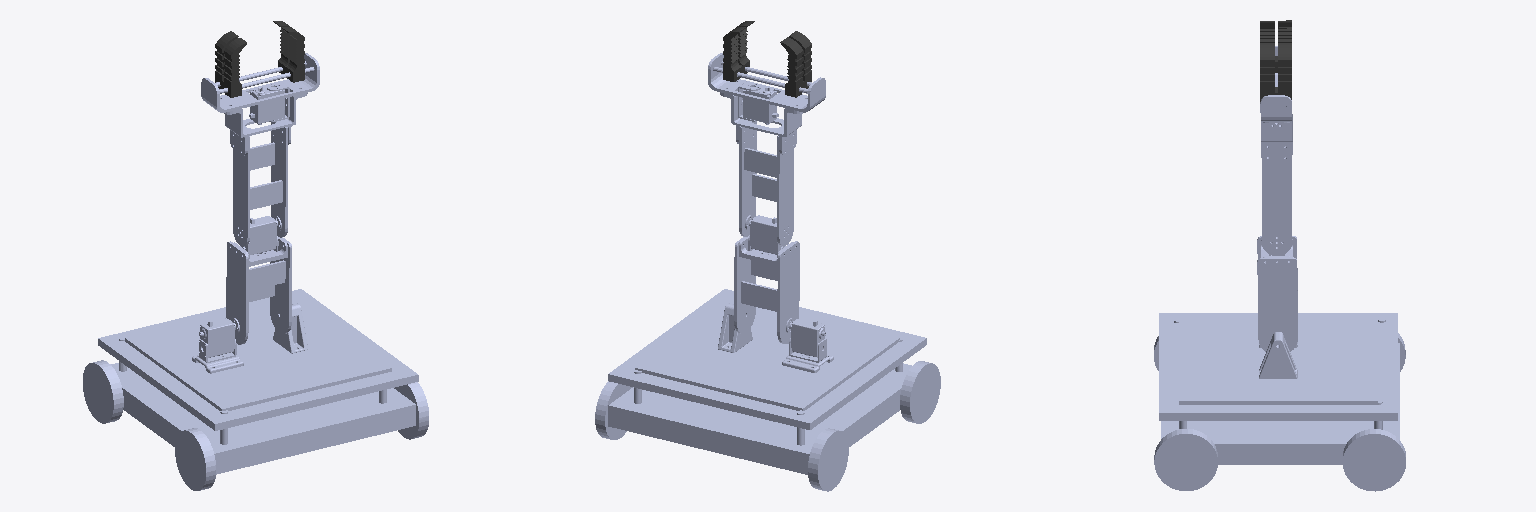
robot.urdf — urdf7:
<?xml version="1.0" encoding="utf-8"?>
<!-- This URDF was automatically created by SolidWorks to URDF Exporter! Originally created by [author] ([email redacted]) 
     Commit Version: 1.6.0-4-g7f85cfe  Build Version: 1.6.7995.38578
     For more information, please see http://wiki.ros.org/sw_urdf_exporter -->
<robot
  name="urdf7">
  <link
    name="base_link">
    <inertial>
      <origin
        xyz="0.0668152216688416 -0.200623079180796 0.0642523578899035"
        rpy="0 0 0" />
      <mass
        value="3.61780596947193" />
      <inertia
        ixx="0.0234239245030477"
        ixy="1.64464864106653E-11"
        ixz="2.5749870118457E-08"
        iyy="0.0259458335995285"
        iyz="-1.09112120541581E-06"
        izz="0.0489634906731094" />
    </inertial>
    <visual>
      <origin
        xyz="0 0 0"
        rpy="0 0 0" />
      <geometry>
        <mesh
          filename="package://urdf7/meshes/base_link.STL" />
      </geometry>
      <material
        name="">
        <color
          rgba="0.792156862745098 0.819607843137255 0.933333333333333 1" />
      </material>
    </visual>
    <collision>
      <origin
        xyz="0 0 0"
        rpy="0 0 0" />
      <geometry>
        <mesh
          filename="package://urdf7/meshes/base_link.STL" />
      </geometry>
    </collision>
  </link>
  <link
    name="wlf">
    <inertial>
      <origin
        xyz="3.84374028176149E-05 -0.000183531350603929 0.0139345794392523"
        rpy="0 0 0" />
      <mass
        value="0.100845124180233" />
      <inertia
        ixx="4.8134198720732E-05"
        ixy="2.10787776934373E-09"
        ixz="-7.39018533366798E-08"
        iyy="4.81245754596535E-05"
        iyz="3.52867414569589E-07"
        izz="6.31918614311935E-05" />
    </inertial>
    <visual>
      <origin
        xyz="0 0 0"
        rpy="0 0 0" />
      <geometry>
        <mesh
          filename="package://urdf7/meshes/wlf.STL" />
      </geometry>
      <material
        name="">
        <color
          rgba="0.792156862745098 0.819607843137255 0.933333333333333 1" />
      </material>
    </visual>
    <collision>
      <origin
        xyz="0 0 0"
        rpy="0 0 0" />
      <geometry>
        <mesh
          filename="package://urdf7/meshes/wlf.STL" />
      </geometry>
    </collision>
  </link>
  <joint
    name="wlf_joint"
    type="continuous">
    <origin
      xyz="-0.098528 -0.082236 0.039792"
      rpy="1.5708 0 1.5708" />
    <parent
      link="base_link" />
    <child
      link="wlf" />
    <axis
      xyz="0 0 1" />
  </joint>
  <link
    name="wlb">
    <inertial>
      <origin
        xyz="-3.84374028175594E-05 0.000183531350603922 0.0139345794392523"
        rpy="0 0 0" />
      <mass
        value="0.100845124180233" />
      <inertia
        ixx="4.8134198720732E-05"
        ixy="2.10787776933083E-09"
        ixz="7.39018533366996E-08"
        iyy="4.81245754596535E-05"
        iyz="-3.5286741456959E-07"
        izz="6.31918614311935E-05" />
    </inertial>
    <visual>
      <origin
        xyz="0 0 0"
        rpy="0 0 0" />
      <geometry>
        <mesh
          filename="package://urdf7/meshes/wlb.STL" />
      </geometry>
      <material
        name="">
        <color
          rgba="0.792156862745098 0.819607843137255 0.933333333333333 1" />
      </material>
    </visual>
    <collision>
      <origin
        xyz="0 0 0"
        rpy="0 0 0" />
      <geometry>
        <mesh
          filename="package://urdf7/meshes/wlb.STL" />
      </geometry>
    </collision>
  </link>
  <joint
    name="wlb_joint"
    type="continuous">
    <origin
      xyz="-0.098528 -0.31879 0.039966"
      rpy="-1.5708 0 -1.5708" />
    <parent
      link="base_link" />
    <child
      link="wlb" />
    <axis
      xyz="0 0 1" />
  </joint>
  <link
    name="wrf">
    <inertial>
      <origin
        xyz="-0.000184301483844296 3.45565282207153E-05 0.0139345794392523"
        rpy="0 0 0" />
      <mass
        value="0.100845124180232" />
      <inertia
        ixx="4.81244908153978E-05"
        ixy="1.90300558831799E-09"
        ixz="3.54348114866728E-07"
        iyy="4.81342833649877E-05"
        iyz="-6.64402715376398E-08"
        izz="6.31918614311933E-05" />
    </inertial>
    <visual>
      <origin
        xyz="0 0 0"
        rpy="0 0 0" />
      <geometry>
        <mesh
          filename="package://urdf7/meshes/wrf.STL" />
      </geometry>
      <material
        name="">
        <color
          rgba="0.792156862745098 0.819607843137255 0.933333333333333 1" />
      </material>
    </visual>
    <collision>
      <origin
        xyz="0 0 0"
        rpy="0 0 0" />
      <geometry>
        <mesh
          filename="package://urdf7/meshes/wrf.STL" />
      </geometry>
    </collision>
  </link>
  <joint
    name="wrf_joint"
    type="continuous">
    <origin
      xyz="0.23147 -0.081353 0.039202"
      rpy="-1.5708 0 1.5708" />
    <parent
      link="base_link" />
    <child
      link="wrf" />
    <axis
      xyz="0 0 1" />
  </joint>
  <link
    name="wrb">
    <inertial>
      <origin
        xyz="0.000184301483844296 -3.45565282207222E-05 0.0139345794392523"
        rpy="0 0 0" />
      <mass
        value="0.100845124180232" />
      <inertia
        ixx="4.8124490815398E-05"
        ixy="1.90300558831802E-09"
        ixz="-3.54348114866745E-07"
        iyy="4.81342833649879E-05"
        iyz="6.64402715376388E-08"
        izz="6.31918614311934E-05" />
    </inertial>
    <visual>
      <origin
        xyz="0 0 0"
        rpy="0 0 0" />
      <geometry>
        <mesh
          filename="package://urdf7/meshes/wrb.STL" />
      </geometry>
      <material
        name="">
        <color
          rgba="0.792156862745098 0.819607843137255 0.933333333333333 1" />
      </material>
    </visual>
    <collision>
      <origin
        xyz="0 0 0"
        rpy="0 0 0" />
      <geometry>
        <mesh
          filename="package://urdf7/meshes/wrb.STL" />
      </geometry>
    </collision>
  </link>
  <joint
    name="wrb_joint"
    type="continuous">
    <origin
      xyz="0.23147 -0.3179 0.039376"
      rpy="1.5708 0 -1.5708" />
    <parent
      link="base_link" />
    <child
      link="wrb" />
    <axis
      xyz="0 0 1" />
  </joint>
  <link
    name="link1">
    <inertial>
      <origin
        xyz="0.0744834102664675 -8.16528076263978E-08 0.034222433190242"
        rpy="0 0 0" />
      <mass
        value="0.116923919932247" />
      <inertia
        ixx="2.68471985890524E-05"
        ixy="-1.87187165060631E-07"
        ixz="-2.57502484520588E-08"
        iyy="9.09493476625712E-05"
        iyz="-1.5225499347338E-11"
        izz="9.13661053358226E-05" />
    </inertial>
    <visual>
      <origin
        xyz="0 0 0"
        rpy="0 0 0" />
      <geometry>
        <mesh
          filename="package://urdf7/meshes/link1.STL" />
      </geometry>
      <material
        name="">
        <color
          rgba="0.792156862745098 0.819607843137255 0.933333333333333 1" />
      </material>
    </visual>
    <collision>
      <origin
        xyz="0 0 0"
        rpy="0 0 0" />
      <geometry>
        <mesh
          filename="package://urdf7/meshes/link1.STL" />
      </geometry>
    </collision>
  </link>
  <joint
    name="link1_joint"
    type="revolute">
    <origin
      xyz="0.10365 -0.20235 0.1523"
      rpy="1.5708 0 -1.5708" />
    <parent
      link="base_link" />
    <child
      link="link1" />
    <axis
      xyz="0 0 1" />
    <limit
      lower="0.695"
      upper="2.424000"
      effort="1"
      velocity="1" />
  </joint>
<link name="link2">
  <inertial>
    <origin xyz="5.35195461837112E-08 0.135652709133402 0.024085541915995" rpy="0 0 0" />
    <mass value="0.170021565693756" />
    <inertia ixx="0.000294086775787843" ixy="-2.16015023974072E-07" ixz="-1.26336994195142E-11" iyy="0.00019237216893058" iyz="4.88090805218435E-07" izz="0.000133214990684317" />
  </inertial>
  <visual>
    <origin xyz="0 0 0" rpy="0 0 0" />
    <geometry>
      <mesh filename="package://urdf7/meshes/link2.STL" />
    </geometry>
    <material name="">
      <color rgba="0.792156862745098 0.819607843137255 0.933333333333333 1" />
    </material>
  </visual>
  <collision>
    <origin xyz="0 0 0" rpy="0 0 0" />
    <geometry>
      <mesh filename="package://urdf7/meshes/link2.STL" />
    </geometry>
  </collision>
</link>

<joint name="link2_joint" type="revolute">
  <origin xyz="0.1309 0 0.00685" rpy="0 0 0" />
  <parent link="link1" />
  <child link="link2" />
  <axis xyz="0 0 1" />
  <limit lower="3.14" upper="6.3" effort="1" velocity="1" />
</joint>

<link name="right_gripper">
  <inertial>
    <origin xyz="0.00999999999999979 0.026106310774761 0.00806753933511638" rpy="0 0 0" />
    <mass value="0.0334179709308611" />
    <inertia ixx="1.60467989320076E-05" ixy="-2.24079472418864E-20" ixz="-1.65647783061652E-21" iyy="5.59323091632944E-06" iyz="-5.6324521607037E-07" izz="2.01628382095131E-05" />
  </inertial>
  <visual>
    <origin xyz="0 0 0" rpy="0 0 0" />
    <geometry>
      <mesh filename="package://urdf7/meshes/right_gripper.STL" />
    </geometry>
    <material name="">
      <color rgba="0.298039215686275 0.298039215686275 0.298039215686275 1" />
    </material>
  </visual>
  <collision>
    <origin xyz="0 0 0" rpy="0 0 0" />
    <geometry>
      <mesh filename="package://urdf7/meshes/right_gripper.STL" />
    </geometry>
  </collision>
</link>

<joint name="right_gripper_joint" type="prismatic">
  <origin xyz="-0.01 0.21135 -0.027709" rpy="0 0 0" />
  <parent link="link2" />
  <child link="right_gripper" />
  <axis xyz="0 0 1" />
  <limit lower="0" upper="0.03" effort="1" velocity="1" />
</joint>

<link name="left_gripper">
  <inertial>
    <origin xyz="0.0100000000000002 0.0261063107747611 0.00806753933511646" rpy="0 0 0" />
    <mass value="0.0334179709308611" />
    <inertia ixx="1.60467989320076E-05" ixy="1.88902519236445E-20" ixz="2.84395359457362E-22" iyy="5.59323091632944E-06" iyz="-5.63245216070373E-07" izz="2.01628382095131E-05" />
  </inertial>
  <visual>
    <origin xyz="0 0 0" rpy="0 0 0" />
    <geometry>
      <mesh filename="package://urdf7/meshes/left_gripper.STL" />
    </geometry>
    <material name="">
      <color rgba="0.298039215686275 0.298039215686275 0.298039215686275 1" />
    </material>
  </visual>
  <collision>
    <origin xyz="0 0 0" rpy="0 0 0" />
    <geometry>
      <mesh filename="package://urdf7/meshes/left_gripper.STL" />
    </geometry>
  </collision>
</link>

<joint name="left_gripper_joint" type="prismatic">
  <origin xyz="0.01 0.21135 0.081491" rpy="-3.1416 0 3.1416" />
  <parent link="link2" />
  <child link="left_gripper" />
  <axis xyz="0 0 1" />
  <limit lower="0" upper="0.03" effort="1" velocity="1" />
</joint>
  <transmission name="link1_trans">
	<type>transmission_interface/SimpleTransmission</type>
	<joint name="link1_joint">
		<hardwareInterface>hardware_interface/PositionJointInterface</hardwareInterface>
	</joint>
	<actuator name="link1_motor">
		<hardwareInterface>hardware_interface/PositionJointInterface</hardwareInterface>
		<mechanicalReduction>1</mechanicalReduction>
	</actuator>
  </transmission>
  
    <transmission name="link2_trans">
	<type>transmission_interface/SimpleTransmission</type>
	<joint name="link2_joint">
		<hardwareInterface>hardware_interface/PositionJointInterface</hardwareInterface>
	</joint>
	<actuator name="link2_motor">
		<hardwareInterface>hardware_interface/PositionJointInterface</hardwareInterface>
		<mechanicalReduction>1</mechanicalReduction>
	</actuator>
  </transmission>

    <transmission name="left_gripper_trans">
	<type>transmission_interface/SimpleTransmission</type>
	<joint name="left_gripper_joint">
		<hardwareInterface>hardware_interface/PositionJointInterface</hardwareInterface>
	</joint>
	<actuator name="left_gripper_motor">
		<hardwareInterface>hardware_interface/PositionJointInterface</hardwareInterface>
		<mechanicalReduction>1</mechanicalReduction>
	</actuator>
  </transmission>
  
      <transmission name="right_gripper_trans">
	<type>transmission_interface/SimpleTransmission</type>
	<joint name="right_gripper_joint">
		<hardwareInterface>hardware_interface/PositionJointInterface</hardwareInterface>
	</joint>
	<actuator name="right_gripper_motor">
		<hardwareInterface>hardware_interface/PositionJointInterface</hardwareInterface>
		<mechanicalReduction>1</mechanicalReduction>
	</actuator>
  </transmission>
  
  <gazebo>
	<plugin name="control" filename="libgazebo_ros_control.so">
		<robotNamespace>urdf7</robotNamespace>
	</plugin>
  </gazebo>
  
  <gazebo reference="link1">
	<selfCollide>true</selfCollide>
  </gazebo>

  <gazebo reference="link2">
	<selfCollide>true</selfCollide>
  </gazebo>

  <gazebo reference="left_gripper">
	<selfCollide>true</selfCollide>
  </gazebo>

  <gazebo>
    <plugin name="differential_drive_controller" filename="libgazebo_ros_diff_drive.so">
      <legacyMode>false</legacyMode>
      <alwaysOn>true</alwaysOn>
      <updateRate>10</updateRate>
      <leftJoint>wlb_joint</leftJoint>
      <rightJoint>wrb_joint</rightJoint>
      <wheelSeparation>0.29</wheelSeparation>
      <wheelDiameter>0.03</wheelDiameter>
      <torque>20</torque>
      <commandTopic>cmd_vel</commandTopic>
      <odometryTopic>odom</odometryTopic>
      <odometryFrame>odom</odometryFrame>
      <robotBaseFrame>base_link</robotBaseFrame>
    </plugin>
  </gazebo>
</robot>

--- Render facts (derived) ---
Views: 3 orthographic renders of the robot side by side, from view 1: azimuth 30°, elevation 25°; view 2: azimuth 150°, elevation 25°; view 3: azimuth 270°, elevation 25°.
Robot: urdf7 — 9 links, 8 joints (2 revolute, 4 continuous, 2 prismatic); root link base_link; default pose: joints at zero except 2 at the middle of their limits (link1_joint = 1.56, link2_joint = 4.72).
Visible links, largest first — view 1: base_link, link2, link1, wlf, wlb, left_gripper, right_gripper, wrb; view 2: base_link, link2, link1, wlf, wlb, left_gripper, right_gripper, wrf; view 3: base_link, link2, link1, wrb, wrf, right_gripper, left_gripper.
Link boxes in pixels (bbox=[...]): base_link: bbox=[98, 289, 418, 474]; link2: bbox=[201, 53, 319, 246]; link1: bbox=[226, 216, 291, 344]; wlf: bbox=[83, 360, 123, 423]; wlb: bbox=[175, 428, 215, 490]; left_gripper: bbox=[215, 31, 246, 97]; right_gripper: bbox=[273, 21, 304, 82]; wrb: bbox=[394, 382, 428, 439]; base_link: bbox=[608, 289, 926, 474]; link2: bbox=[708, 53, 825, 245]; link1: bbox=[734, 215, 799, 343]; wlf: bbox=[808, 428, 848, 491]; wlb: bbox=[900, 361, 940, 423]; left_gripper: bbox=[780, 31, 811, 97]; right_gripper: bbox=[723, 21, 754, 81]; wrf: bbox=[595, 381, 632, 439]; base_link: bbox=[1159, 313, 1399, 464]; link2: bbox=[1260, 46, 1292, 255]; link1: bbox=[1257, 236, 1297, 351]; wrb: bbox=[1154, 429, 1217, 490]; wrf: bbox=[1343, 429, 1405, 491]; right_gripper: bbox=[1260, 43, 1291, 101]; left_gripper: bbox=[1260, 20, 1291, 72].
Size in the robot's own frame: 0.33 by 0.3174 by 0.5609 metres.
9 mesh visuals loaded from 9 distinct referenced files (9 binary STL).